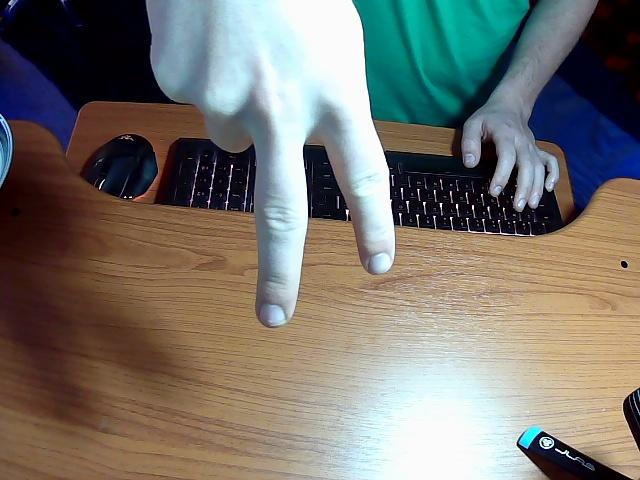scissors: (148, 0, 594, 326)
